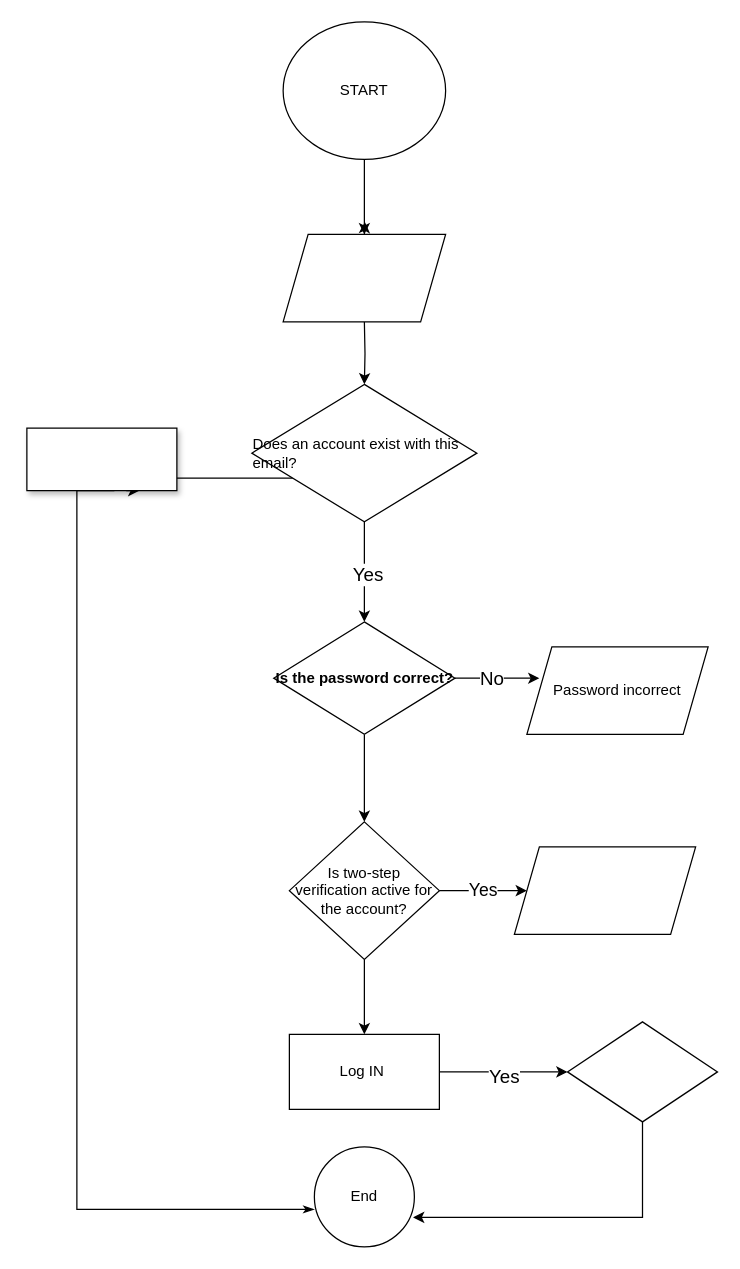
This 740x1269 diagram has some shape labels left out. Each missing label, with the centre of its shape:
"account not found" goes at (102,460).
"email and password" goes at (364,277).
"is the code correct?" goes at (642,1071).
"Sms code sent to phone" goes at (604,890).
